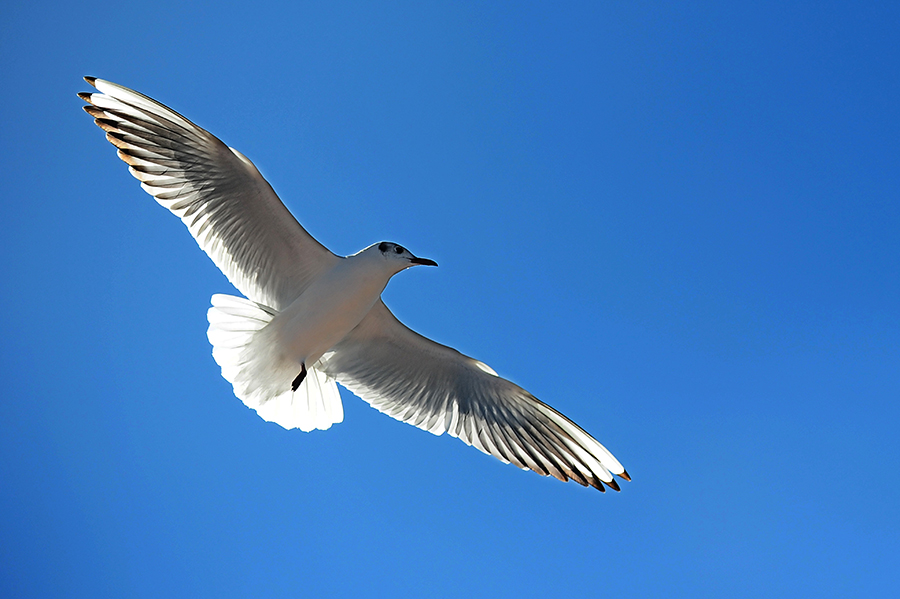bird: (71, 72, 632, 498)
